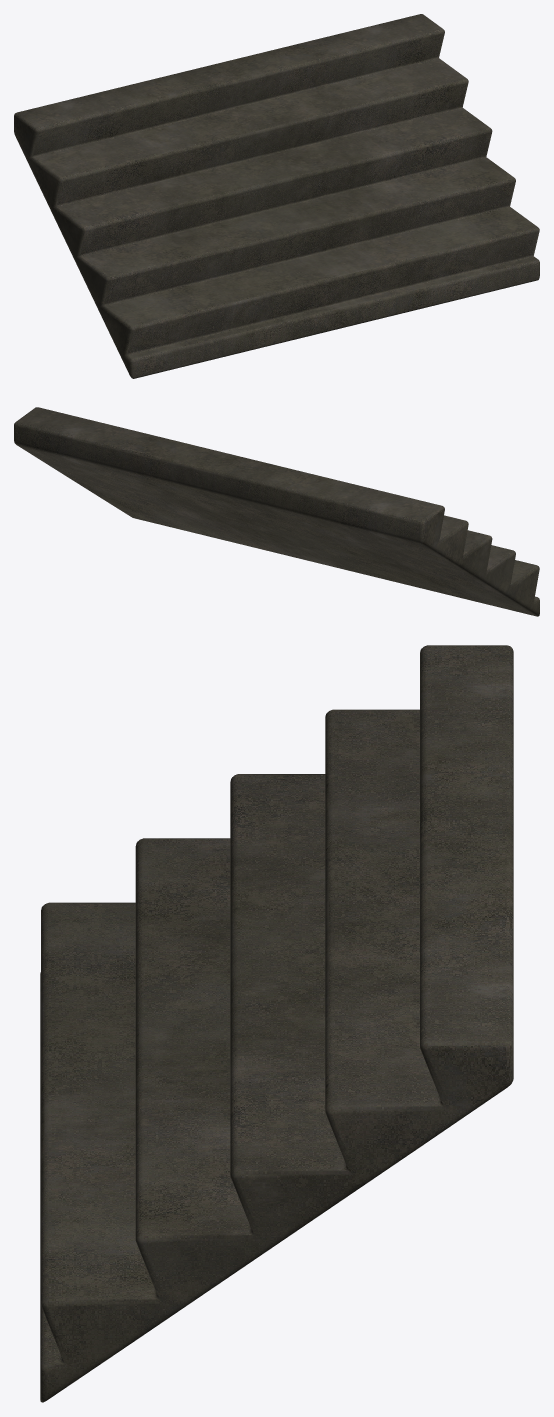
File: stairs_3.glb
The picture shows the model from 3 angles, top to bottom: view 1: azimuth 30°, elevation 25°; view 2: azimuth 150°, elevation 25°; view 3: azimuth 270°, elevation 25°; orthographic projection. The views are drawn at different scales.
Visible parts, largest first — view 1: stairs_3; view 2: stairs_3; view 3: stairs_3.
Part boxes in pixels (bbox=[...]): stairs_3: bbox=[14, 14, 539, 378]; stairs_3: bbox=[14, 407, 539, 616]; stairs_3: bbox=[40, 645, 513, 1402].
Size of the model in its own units: 4 by 1.69 by 2.
1 material, 1 textured.
